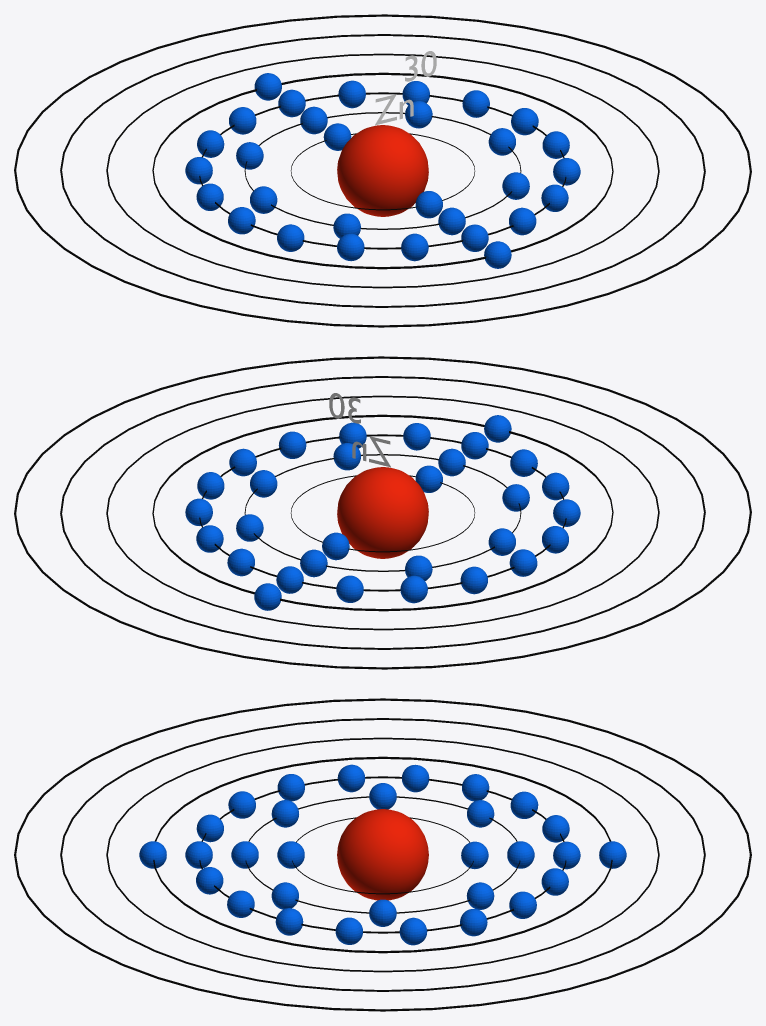
3 renders of one model, top to bottom at view 1: azimuth 30°, elevation 25°; view 2: azimuth 150°, elevation 25°; view 3: azimuth 270°, elevation 25°, orthographic.
Parts seen in each view (by area): view 1: Zn3, Proton, Zn2, n7, n6, n5, n4, Zn4, Zn1, n3, n2; view 2: Zn3, Proton, Zn2, n7, n6, n5, n4, Zn4, Zn1, n3, n2; view 3: Zn3, Proton, Zn2, n7, n6, n5, n4, Zn1, Zn4, n3, n2, n1.
Boxes of the visible parts, <box> form: Zn3: <box>185,80,580,261</box>; Proton: <box>337,125,428,216</box>; Zn2: <box>236,101,529,238</box>; n7: <box>14,14,751,327</box>; n6: <box>60,34,705,307</box>; n5: <box>106,53,659,288</box>; n4: <box>152,72,613,269</box>; Zn4: <box>254,73,511,268</box>; Zn1: <box>323,123,442,218</box>; n3: <box>199,92,566,249</box>; n2: <box>244,112,521,229</box>; Zn3: <box>185,422,580,603</box>; Proton: <box>337,467,428,558</box>; Zn2: <box>236,443,529,580</box>; n7: <box>14,356,751,669</box>; n6: <box>60,376,705,649</box>; n5: <box>106,395,659,630</box>; n4: <box>152,414,613,611</box>; Zn4: <box>254,415,511,610</box>; Zn1: <box>322,465,442,560</box>; n3: <box>199,434,566,591</box>; n2: <box>244,454,521,571</box>; Zn3: <box>185,764,580,945</box>; Proton: <box>337,809,428,900</box>; Zn2: <box>231,783,534,926</box>; n7: <box>14,698,751,1011</box>; n6: <box>60,718,705,991</box>; n5: <box>106,737,659,972</box>; n4: <box>153,756,612,953</box>; Zn1: <box>277,841,488,869</box>; Zn4: <box>139,841,626,868</box>; n3: <box>199,776,566,933</box>; n2: <box>245,796,520,913</box>; n1: <box>292,817,473,894</box>.
Size of the model in its own units: 802 by 180 by 802.
